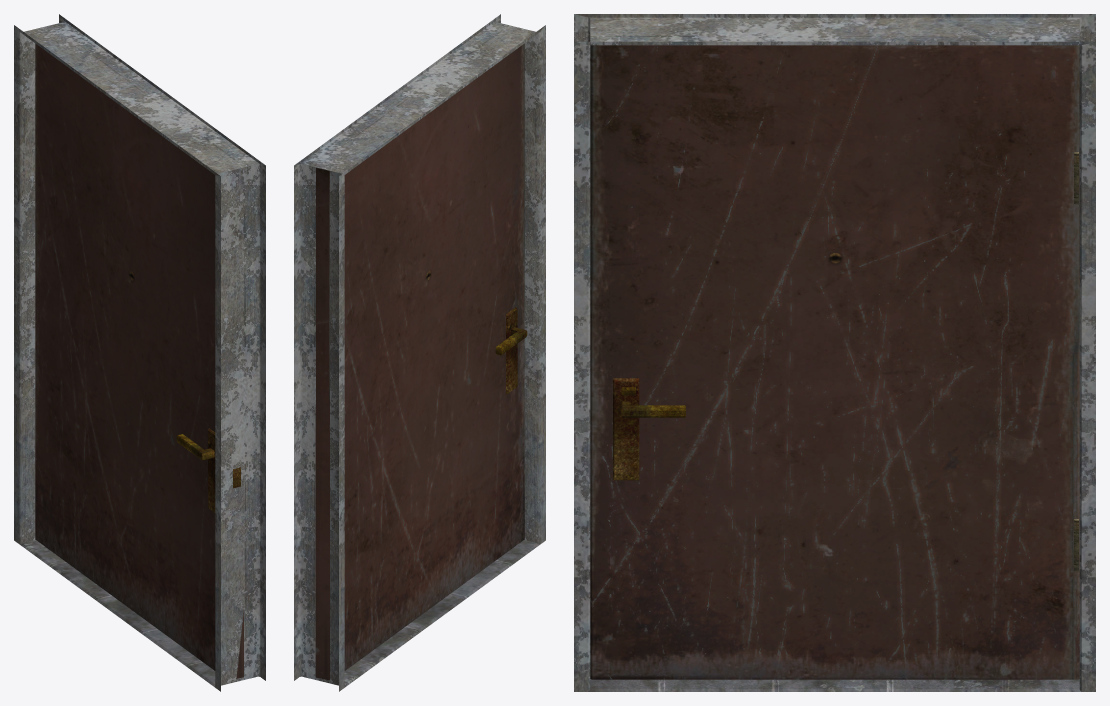
The model's file is puerta.obj.
3 renders of one model, left to right at view 1: azimuth 30°, elevation 25°; view 2: azimuth 150°, elevation 25°; view 3: azimuth 270°, elevation 25°, orthographic. The views are drawn at different scales.
Visible parts, largest first — view 1: puerta; view 2: puerta; view 3: puerta.
Boxes of the visible parts, bbox=[...] form: puerta: bbox=[14, 14, 265, 691]; puerta: bbox=[294, 14, 545, 691]; puerta: bbox=[574, 14, 1095, 691].
Size of the model in its own units: 16.05 by 176 by 128.
4 materials, 4 textured.
